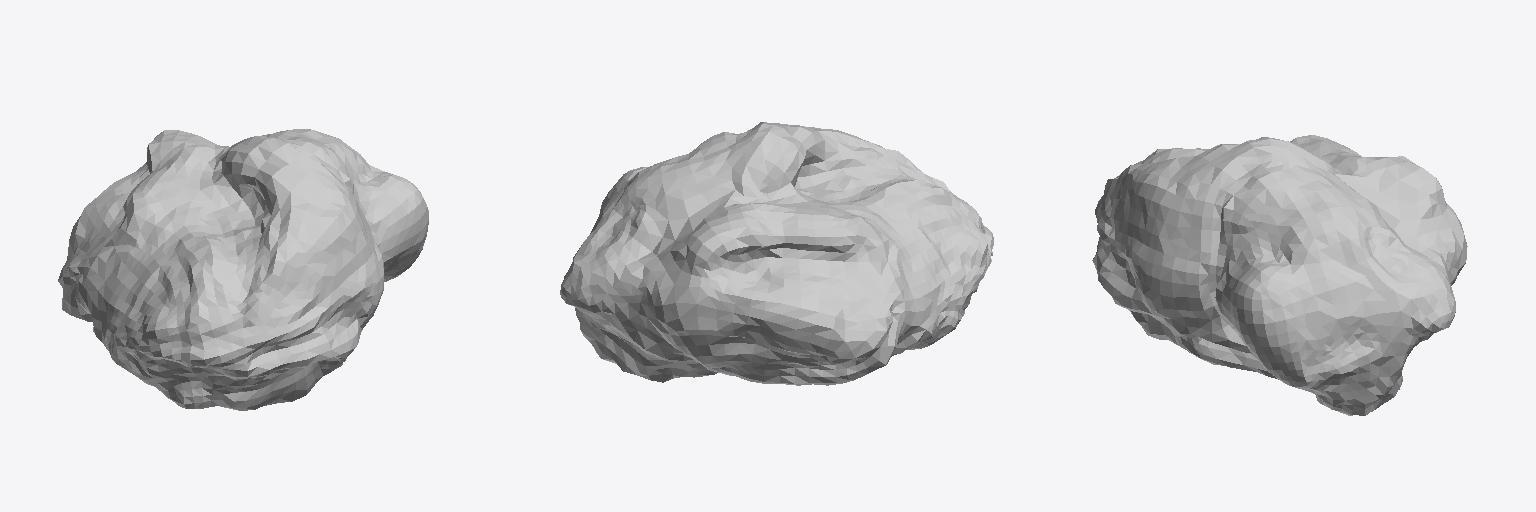
File: rock1.obj
3 renders of one model, left to right at view 1: azimuth 30°, elevation 25°; view 2: azimuth 150°, elevation 25°; view 3: azimuth 270°, elevation 25°, orthographic.
Visible parts, largest first — view 1: Rock1:Rock_01 Rock1:group Rock1:polySurface1; view 2: Rock1:Rock_01 Rock1:group Rock1:polySurface1; view 3: Rock1:Rock_01 Rock1:group Rock1:polySurface1.
Boxes of the visible parts, box(x1,y1,x2,y2) form: Rock1:Rock_01 Rock1:group Rock1:polySurface1: box(58, 129, 428, 410); Rock1:Rock_01 Rock1:group Rock1:polySurface1: box(560, 122, 993, 385); Rock1:Rock_01 Rock1:group Rock1:polySurface1: box(1092, 135, 1467, 415).
Size of the model in its own units: 0.5786 by 0.3952 by 0.5633.